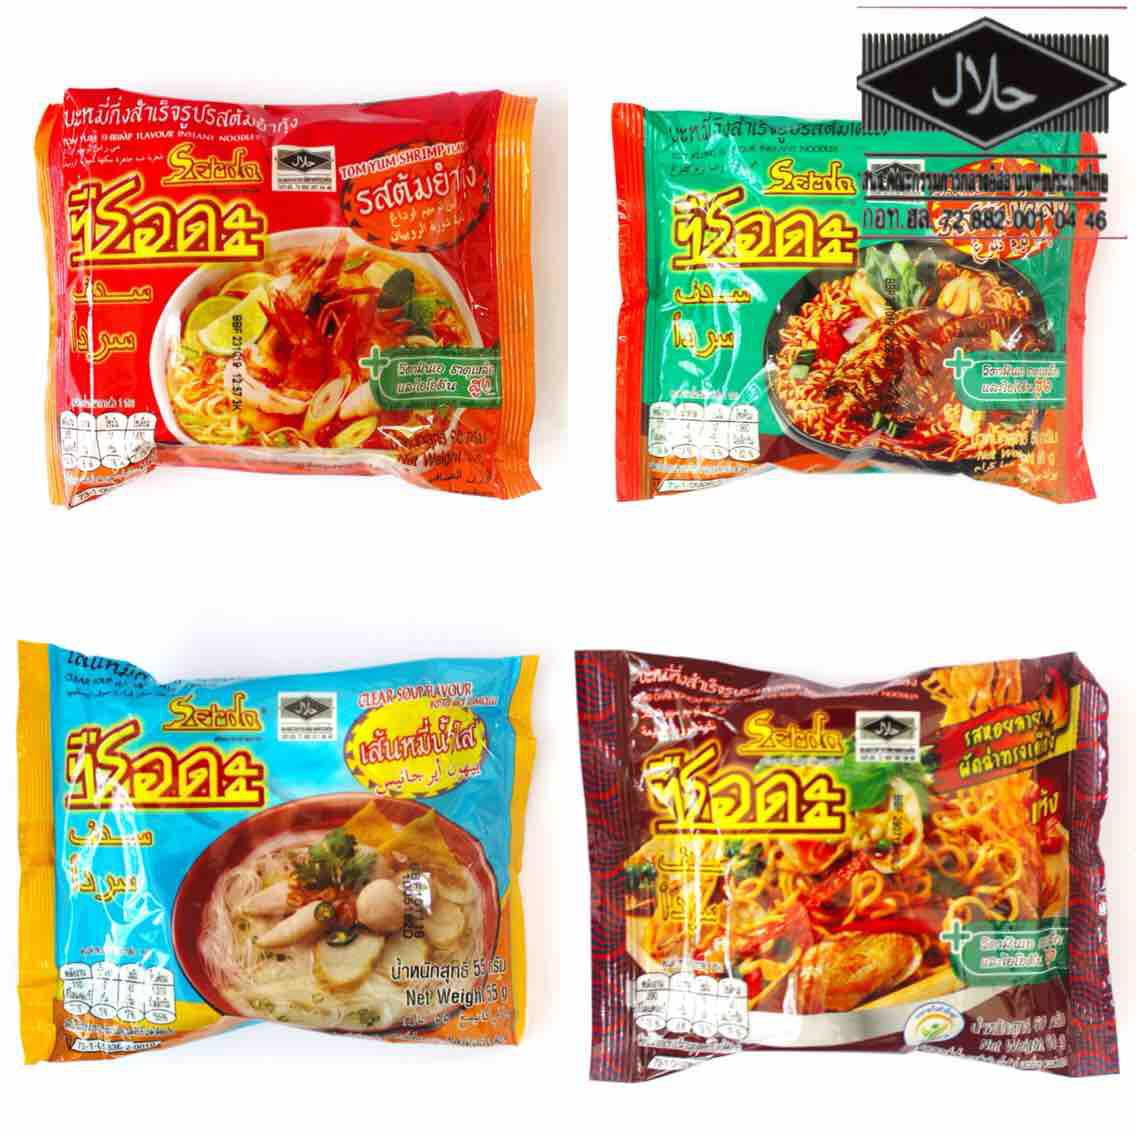Snack: (569, 634, 1133, 1098), (19, 77, 558, 513), (12, 632, 543, 1072)
